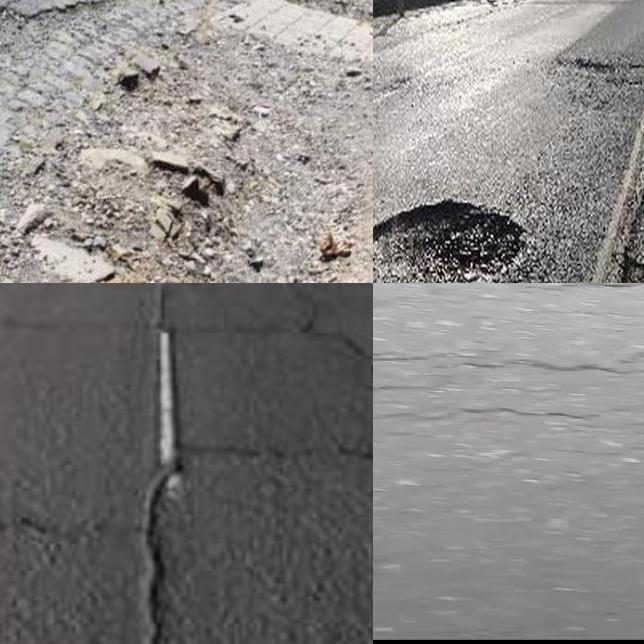Lubang: (373, 197, 525, 283)
Melintang: (180, 434, 373, 483), (0, 503, 112, 554)
Memanjang: (131, 283, 185, 644), (274, 283, 373, 398)
Pinggir: (0, 0, 352, 283)
